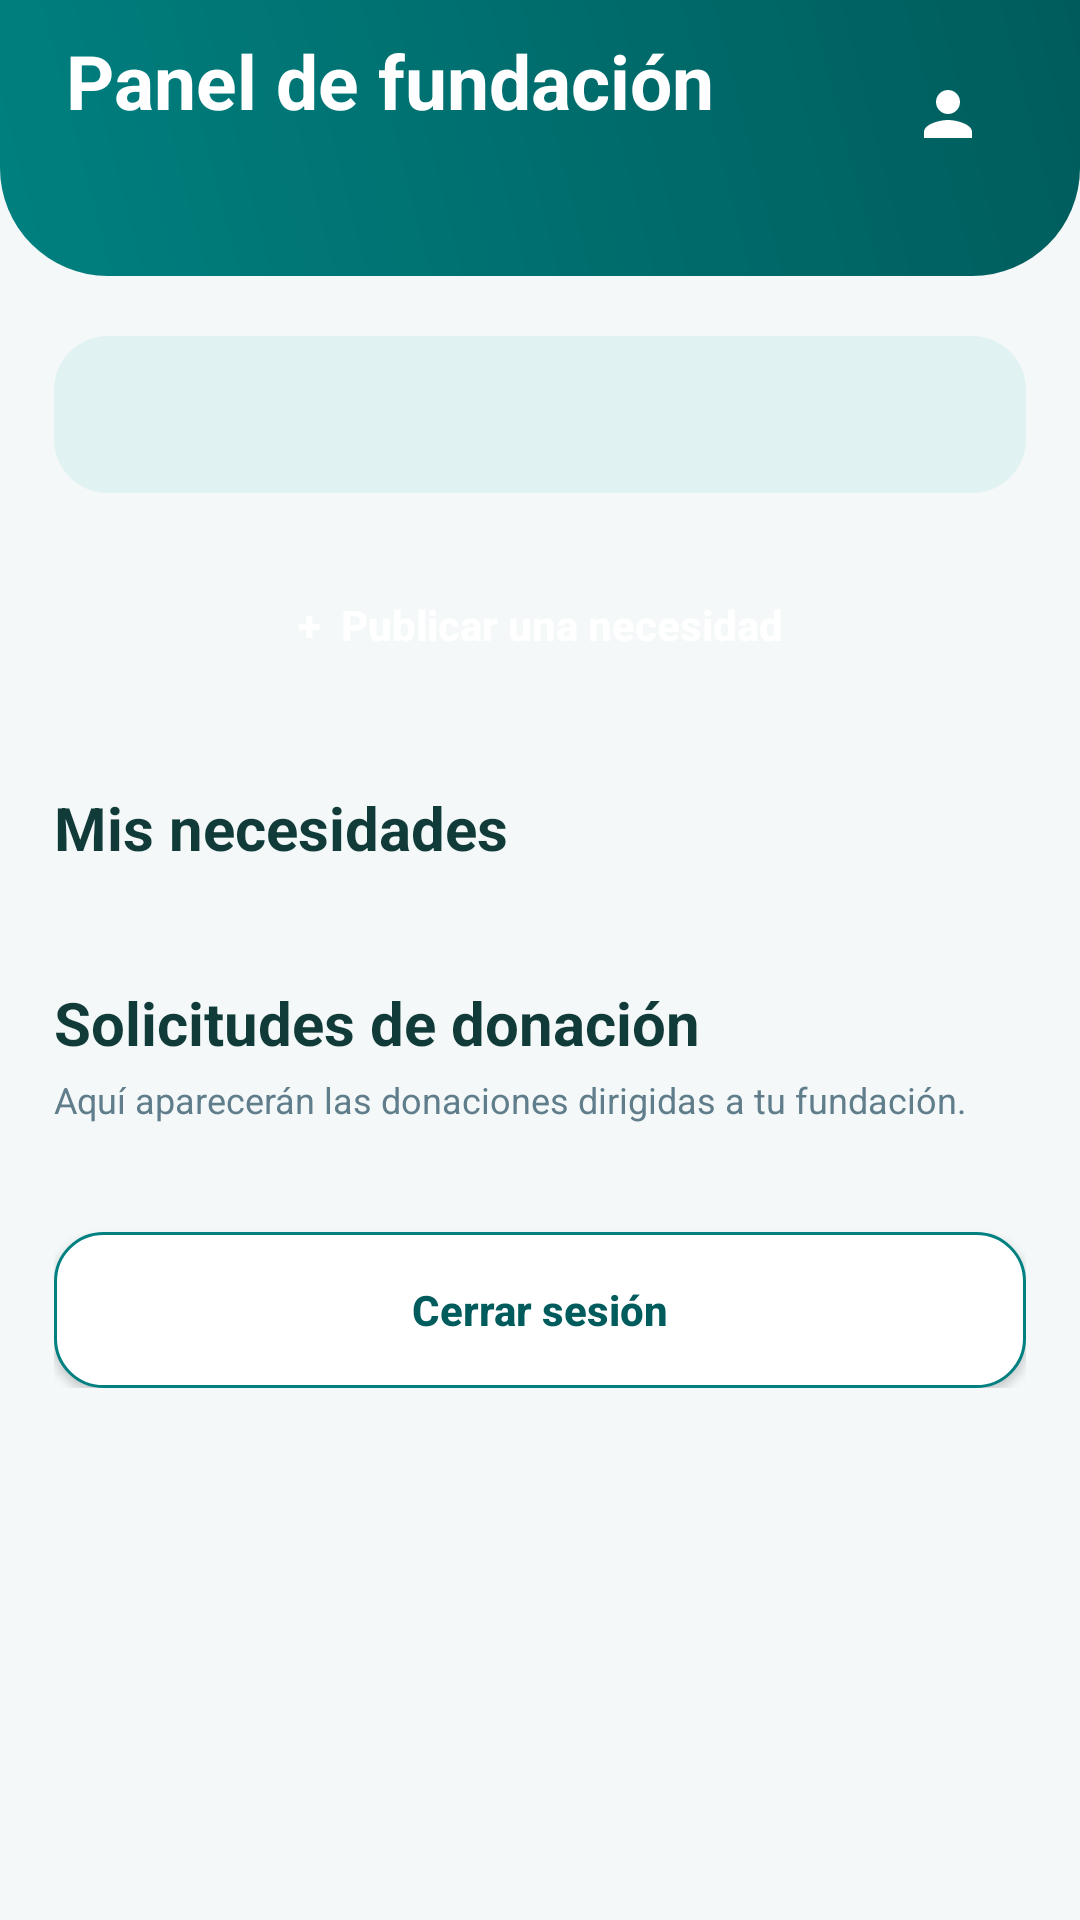

Where to tap for icons on this 1080 × 1920 app screen, as point (x, y):
Perfil: point (948, 114)
